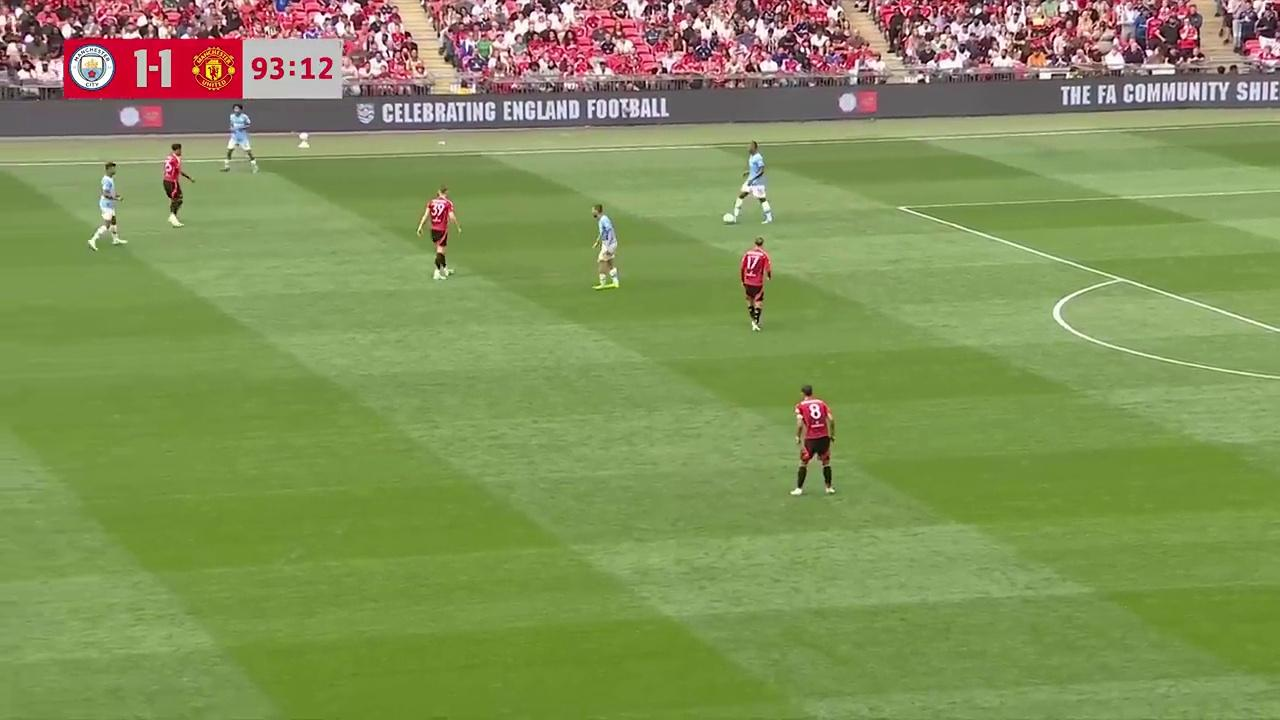ball: (721, 209, 735, 225)
player: (790, 385, 836, 496), (414, 185, 460, 284), (725, 147, 773, 223), (88, 161, 127, 251), (739, 237, 772, 332), (162, 143, 196, 225), (220, 106, 257, 173), (591, 205, 619, 288)
